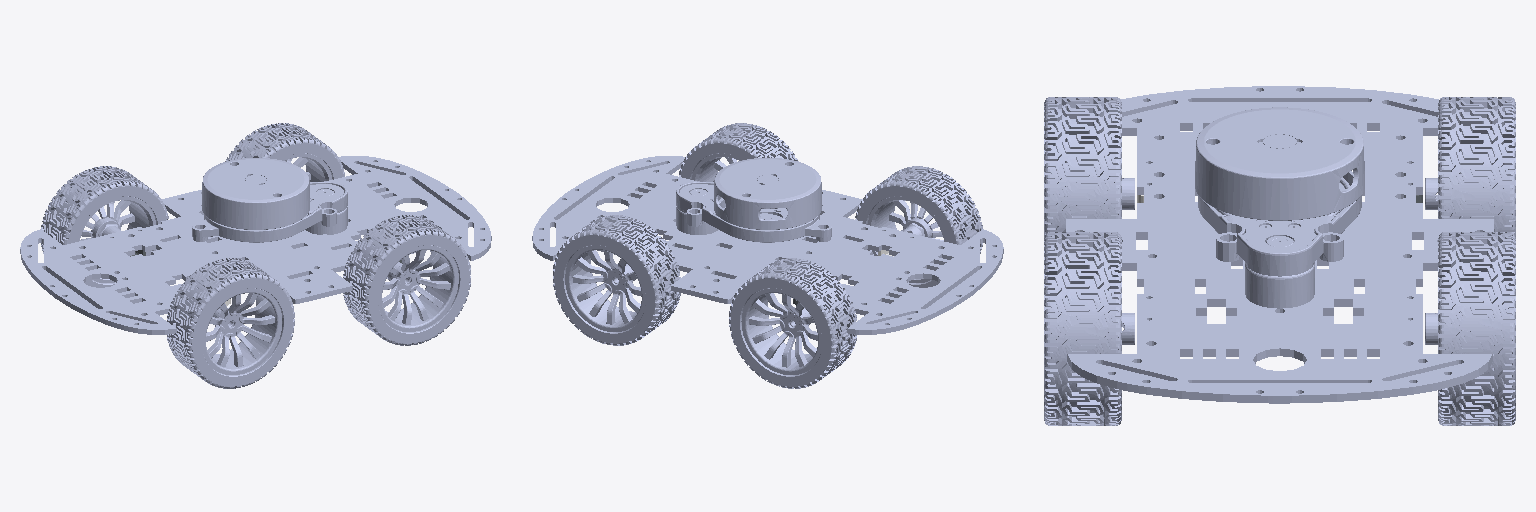
The robot description file, URDF, robot "rover":
<?xml version="1.0" encoding="utf-8"?>
<!-- This URDF was automatically created by SolidWorks to URDF Exporter! Originally created by [author] ([email redacted]) 
     Commit Version: 1.6.0-4-g7f85cfe  Build Version: 1.6.7995.38578
     For more information, please see http://wiki.ros.org/sw_urdf_exporter -->
<robot
  name="rover">
  <link
    name="base_link">
    <inertial>
      <origin
        xyz="2.04381831142401E-09 1.56408869429724E-17 -0.0015"
        rpy="0 0 0" />
      <mass
        value="0.0757356843292425" />
      <inertia
        ixx="9.30542487791855E-05"
        ixy="-1.72973378957802E-10"
        ixz="-1.66079077298931E-21"
        iyy="0.000382138338193282"
        iyz="3.43912726365504E-23"
        izz="0.000475078982714826" />
    </inertial>
    <visual>
      <origin
        xyz="0 0 0"
        rpy="0 0 0" />
      <geometry>
        <mesh
          filename="package://rover/meshes/base_link.STL" />
      </geometry>
      <material
        name="">
        <color
          rgba="0.792156862745098 0.819607843137255 0.933333333333333 1" />
      </material>
    </visual>
    <collision>
      <origin
        xyz="0 0 0"
        rpy="0 0 0" />
      <geometry>
        <mesh
          filename="package://rover/meshes/base_link.STL" />
      </geometry>
    </collision>
  </link>
  <link
    name="LD14P_Link">
    <inertial>
      <origin
        xyz="0.015195 -9.1663E-05 -0.019909"
        rpy="0 0 0" />
      <mass
        value="0.025443" />
      <inertia
        ixx="5.3011E-06"
        ixy="-1.5024E-08"
        ixz="1.2999E-09"
        iyy="8.6464E-06"
        iyz="-1.8484E-08"
        izz="1.3337E-05" />
    </inertial>
    <visual>
      <origin
        xyz="0 0 0"
        rpy="0 0 0" />
      <geometry>
        <mesh
          filename="package://rover/meshes/LD14P_Link.STL" />
      </geometry>
      <material
        name="">
        <color
          rgba="0.79216 0.81961 0.93333 1" />
      </material>
    </visual>
    <collision>
      <origin
        xyz="0 0 0"
        rpy="0 0 0" />
      <geometry>
        <mesh
          filename="package://rover/meshes/LD14P_Link.STL" />
      </geometry>
    </collision>
  </link>
  <joint
    name="LD14P"
    type="fixed">
    <origin
      xyz="-0.00012702 0 0.03845"
      rpy="0 0 0" />
    <parent
      link="base_link" />
    <child
      link="LD14P_Link" />
    <axis
      xyz="0 0 0" />
  </joint>
  <link
    name="Mount_Link_FR">
    <inertial>
      <origin
        xyz="-2.8937E-05 0.0057418 0.00032322"
        rpy="0 0 0" />
      <mass
        value="0.00088951" />
      <inertia
        ixx="2.4974E-08"
        ixy="-3.6241E-11"
        ixz="-9.203E-11"
        iyy="6.2294E-08"
        iyz="1.983E-09"
        izz="5.9248E-08" />
    </inertial>
    <visual>
      <origin
        xyz="0 0 0"
        rpy="0 0 0" />
      <geometry>
        <mesh
          filename="package://rover/meshes/Mount_Link_FR.STL" />
      </geometry>
      <material
        name="">
        <color
          rgba="0.44706 0.47451 0.50196 1" />
      </material>
    </visual>
    <collision>
      <origin
        xyz="0 0 0"
        rpy="0 0 0" />
      <geometry>
        <mesh
          filename="package://rover/meshes/Mount_Link_FR.STL" />
      </geometry>
    </collision>
  </link>
  <joint
    name="Mount_FR"
    type="fixed">
    <origin
      xyz="0.055873 -0.05 -0.0092866"
      rpy="0 0 0" />
    <parent
      link="base_link" />
    <child
      link="Mount_Link_FR" />
    <axis
      xyz="0 0 0" />
  </joint>
  <link
    name="Motor_Link_FR">
    <inertial>
      <origin
        xyz="-6.0305E-05 0.026341 0.00088289"
        rpy="0 0 0" />
      <mass
        value="0.0028388" />
      <inertia
        ixx="5.2064E-08"
        ixy="8.1692E-12"
        ixz="-2.1321E-10"
        iyy="5.1223E-08"
        iyz="9.4713E-12"
        izz="5.0388E-08" />
    </inertial>
    <visual>
      <origin
        xyz="0 0 0"
        rpy="0 0 0" />
      <geometry>
        <mesh
          filename="package://rover/meshes/Motor_Link_FR.STL" />
      </geometry>
      <material
        name="">
        <color
          rgba="0.79608 0.79608 0.79608 1" />
      </material>
    </visual>
    <collision>
      <origin
        xyz="0 0 0"
        rpy="0 0 0" />
      <geometry>
        <mesh
          filename="package://rover/meshes/Motor_Link_FR.STL" />
      </geometry>
    </collision>
  </link>
  <joint
    name="Motor_FR"
    type="fixed">
    <origin
      xyz="7.6341E-05 -0.0092 0.0012869"
      rpy="0 0 0" />
    <parent
      link="Mount_Link_FR" />
    <child
      link="Motor_Link_FR" />
    <axis
      xyz="0 0 0" />
  </joint>
  <link
    name="Wheel_Link_FR">
    <inertial>
      <origin
        xyz="5.7778E-11 -0.01821 -4.7703E-11"
        rpy="0 0 0" />
      <mass
        value="0.035175" />
      <inertia
        ixx="1.5237E-05"
        ixy="2.2092E-14"
        ixz="4.4745E-10"
        iyy="2.5786E-05"
        iyz="-3.1145E-14"
        izz="1.5237E-05" />
    </inertial>
    <visual>
      <origin
        xyz="0 0 0"
        rpy="0 0 0" />
      <geometry>
        <mesh
          filename="package://rover/meshes/Wheel_Link_FR.STL" />
      </geometry>
      <material
        name="">
        <color
          rgba="0.79216 0.81961 0.93333 1" />
      </material>
    </visual>
    <collision>
      <origin
        xyz="0 0 0"
        rpy="0 0 0" />
      <geometry>
        <mesh
          filename="package://rover/meshes/Wheel_Link_FR.STL" />
      </geometry>
    </collision>
  </link>
  <joint
    name="Wheel_FR"
    type="continuous">
    <origin
      xyz="-7.6341E-05 0.0084 0"
      rpy="0 0 0" />
    <parent
      link="Motor_Link_FR" />
    <child
      link="Wheel_Link_FR" />
    <axis
      xyz="0 1 0" />
  </joint>
  <link
    name="Mount_Link_FL">
    <inertial>
      <origin
        xyz="2.89374526260128E-05 -0.00574180489474202 0.000323223503266032"
        rpy="0 0 0" />
      <mass
        value="0.000889511101495515" />
      <inertia
        ixx="2.497444539411E-08"
        ixy="-3.6240651239437E-11"
        ixz="9.2029843628899E-11"
        iyy="6.22940092253975E-08"
        iyz="-1.98296057293581E-09"
        izz="5.92484943284019E-08" />
    </inertial>
    <visual>
      <origin
        xyz="0 0 0"
        rpy="0 0 0" />
      <geometry>
        <mesh
          filename="package://rover/meshes/Mount_Link_FL.STL" />
      </geometry>
      <material
        name="">
        <color
          rgba="0.447058823529412 0.474509803921569 0.501960784313725 1" />
      </material>
    </visual>
    <collision>
      <origin
        xyz="0 0 0"
        rpy="0 0 0" />
      <geometry>
        <mesh
          filename="package://rover/meshes/Mount_Link_FL.STL" />
      </geometry>
    </collision>
  </link>
  <joint
    name="Mount_FL"
    type="fixed">
    <origin
      xyz="0.055873 0.05 -0.0092866"
      rpy="0 0 0" />
    <parent
      link="base_link" />
    <child
      link="Mount_Link_FL" />
    <axis
      xyz="0 0 0" />
  </joint>
  <link
    name="Motor_Link_FL">
    <inertial>
      <origin
        xyz="6.03046968803145E-05 -0.0263412887088174 0.000882893673382839"
        rpy="0 0 0" />
      <mass
        value="0.00283879570267248" />
      <inertia
        ixx="5.20644968727663E-08"
        ixy="8.16932903691748E-12"
        ixz="2.13211914887738E-10"
        iyy="5.12226271656975E-08"
        iyz="-9.4713293078595E-12"
        izz="5.03883033851809E-08" />
    </inertial>
    <visual>
      <origin
        xyz="0 0 0"
        rpy="0 0 0" />
      <geometry>
        <mesh
          filename="package://rover/meshes/Motor_Link_FL.STL" />
      </geometry>
      <material
        name="">
        <color
          rgba="0.796078431372549 0.796078431372549 0.796078431372549 1" />
      </material>
    </visual>
    <collision>
      <origin
        xyz="0 0 0"
        rpy="0 0 0" />
      <geometry>
        <mesh
          filename="package://rover/meshes/Motor_Link_FL.STL" />
      </geometry>
    </collision>
  </link>
  <joint
    name="Motor_FL"
    type="fixed">
    <origin
      xyz="-7.63405011604268E-05 0.00919999999999997 0.00128688689012445"
      rpy="0 0 0" />
    <parent
      link="Mount_Link_FL" />
    <child
      link="Motor_Link_FL" />
    <axis
      xyz="0 0 0" />
  </joint>
  <link
    name="Wheel_Link_FL">
    <inertial>
      <origin
        xyz="-7.45820558090138E-11 0.0182100813888 7.17062607208385E-12"
        rpy="0 0 0" />
      <mass
        value="0.035174698582227" />
      <inertia
        ixx="1.52366268256632E-05"
        ixy="3.76506163752978E-14"
        ixz="-2.1550742782768E-10"
        iyy="2.57857822002641E-05"
        iyz="6.3766971496481E-15"
        izz="1.52375222771183E-05" />
    </inertial>
    <visual>
      <origin
        xyz="0 0 0"
        rpy="0 0 0" />
      <geometry>
        <mesh
          filename="package://rover/meshes/Wheel_Link_FL.STL" />
      </geometry>
      <material
        name="">
        <color
          rgba="0.792156862745098 0.819607843137255 0.933333333333333 1" />
      </material>
    </visual>
    <collision>
      <origin
        xyz="0 0 0"
        rpy="0 0 0" />
      <geometry>
        <mesh
          filename="package://rover/meshes/Wheel_Link_FL.STL" />
      </geometry>
    </collision>
  </link>
  <joint
    name="Wheel_FL"
    type="continuous">
    <origin
      xyz="7.63405011604476E-05 -0.00840000000000002 0"
      rpy="0 0 0" />
    <parent
      link="Motor_Link_FL" />
    <child
      link="Wheel_Link_FL" />
    <axis
      xyz="0 -1 0" />
  </joint>
  <link
    name="Mount_Link_BL">
    <inertial>
      <origin
        xyz="2.89374526260197E-05 -0.00574180489474202 0.000323223503266031"
        rpy="0 0 0" />
      <mass
        value="0.000889511101495515" />
      <inertia
        ixx="2.497444539411E-08"
        ixy="-3.62406512394373E-11"
        ixz="9.20298436289031E-11"
        iyy="6.22940092253975E-08"
        iyz="-1.98296057293581E-09"
        izz="5.92484943284018E-08" />
    </inertial>
    <visual>
      <origin
        xyz="0 0 0"
        rpy="0 0 0" />
      <geometry>
        <mesh
          filename="package://rover/meshes/Mount_Link_BL.STL" />
      </geometry>
      <material
        name="">
        <color
          rgba="0.447058823529412 0.474509803921569 0.501960784313725 1" />
      </material>
    </visual>
    <collision>
      <origin
        xyz="0 0 0"
        rpy="0 0 0" />
      <geometry>
        <mesh
          filename="package://rover/meshes/Mount_Link_BL.STL" />
      </geometry>
    </collision>
  </link>
  <joint
    name="Mount_BL"
    type="fixed">
    <origin
      xyz="-0.056127 0.05 -0.0092866"
      rpy="0 0 0" />
    <parent
      link="base_link" />
    <child
      link="Mount_Link_BL" />
    <axis
      xyz="0 0 0" />
  </joint>
  <link
    name="Motor_Link_BL">
    <inertial>
      <origin
        xyz="-6.030459023839E-05 -0.0263412887982114 -0.000882893768063883"
        rpy="0 0 0" />
      <mass
        value="0.00283879567406719" />
      <inertia
        ixx="5.20644961834455E-08"
        ixy="-8.16930221775181E-12"
        ixz="2.13211883274157E-10"
        iyy="5.12226271617704E-08"
        iyz="9.4712344391227E-12"
        izz="5.03883026605782E-08" />
    </inertial>
    <visual>
      <origin
        xyz="0 0 0"
        rpy="0 0 0" />
      <geometry>
        <mesh
          filename="package://rover/meshes/Motor_Link_BL.STL" />
      </geometry>
      <material
        name="">
        <color
          rgba="0.796078431372549 0.796078431372549 0.796078431372549 1" />
      </material>
    </visual>
    <collision>
      <origin
        xyz="0 0 0"
        rpy="0 0 0" />
      <geometry>
        <mesh
          filename="package://rover/meshes/Motor_Link_BL.STL" />
      </geometry>
    </collision>
  </link>
  <joint
    name="Motor_BL"
    type="fixed">
    <origin
      xyz="7.63405011606419E-05 0.00919999999999999 0.0012863796207111"
      rpy="0 0 0" />
    <parent
      link="Mount_Link_BL" />
    <child
      link="Motor_Link_BL" />
    <axis
      xyz="0 0 0" />
  </joint>
  <link
    name="Wheel_Link_BL">
    <inertial>
      <origin
        xyz="4.3705178365272E-12 0.0182100813888 7.47986212898399E-11"
        rpy="0 0 0" />
      <mass
        value="0.0351746985822267" />
      <inertia
        ixx="1.52375048767784E-05"
        ixy="7.78410523677623E-15"
        ixz="2.48438778432416E-10"
        iyy="2.57857822002643E-05"
        iyz="-3.73823276527771E-14"
        izz="1.52366442259736E-05" />
    </inertial>
    <visual>
      <origin
        xyz="0 0 0"
        rpy="0 0 0" />
      <geometry>
        <mesh
          filename="package://rover/meshes/Wheel_Link_BL.STL" />
      </geometry>
      <material
        name="">
        <color
          rgba="0.792156862745098 0.819607843137255 0.933333333333333 1" />
      </material>
    </visual>
    <collision>
      <origin
        xyz="0 0 0"
        rpy="0 0 0" />
      <geometry>
        <mesh
          filename="package://rover/meshes/Wheel_Link_BL.STL" />
      </geometry>
    </collision>
  </link>
  <joint
    name="Wheel_BL"
    type="continuous">
    <origin
      xyz="-7.63405011606141E-05 -0.00840000000000001 0"
      rpy="0 0 0" />
    <parent
      link="Motor_Link_BL" />
    <child
      link="Wheel_Link_BL" />
    <axis
      xyz="0 -1 0" />
  </joint>
  <link
    name="Mount_Link_BR">
    <inertial>
      <origin
        xyz="0 0 0"
        rpy="0 0 0" />
      <mass
        value="0" />
      <inertia
        ixx="0"
        ixy="0"
        ixz="0"
        iyy="0"
        iyz="0"
        izz="0" />
    </inertial>
    <visual>
      <origin
        xyz="0 0 0"
        rpy="0 0 0" />
      <geometry>
        <mesh
          filename="package://rover/meshes/Mount_Link_BR.STL" />
      </geometry>
      <material
        name="">
        <color
          rgba="1 1 1 1" />
      </material>
    </visual>
    <collision>
      <origin
        xyz="0 0 0"
        rpy="0 0 0" />
      <geometry>
        <mesh
          filename="package://rover/meshes/Mount_Link_BR.STL" />
      </geometry>
    </collision>
  </link>
  <joint
    name="Mount_BR"
    type="fixed">
    <origin
      xyz="-0.0561270249631181 -0.0499999999999994 -0.00928663325541777"
      rpy="0 0 0" />
    <parent
      link="base_link" />
    <child
      link="Mount_Link_BR" />
    <axis
      xyz="0 0 0" />
  </joint>
  <link
    name="Motor_Link_BR">
    <inertial>
      <origin
        xyz="6.03046153492687E-05 0.0263412889891294 -0.00088289376174546"
        rpy="0 0 0" />
      <mass
        value="0.0028387955894548" />
      <inertia
        ixx="5.20644945289959E-08"
        ixy="-8.16931021094843E-12"
        ixz="-2.13211916263588E-10"
        iyy="5.122262714054E-08"
        iyz="-9.47133094088897E-12"
        izz="5.03883010411983E-08" />
    </inertial>
    <visual>
      <origin
        xyz="0 0 0"
        rpy="0 0 0" />
      <geometry>
        <mesh
          filename="package://rover/meshes/Motor_Link_BR.STL" />
      </geometry>
      <material
        name="">
        <color
          rgba="0.796078431372549 0.796078431372549 0.796078431372549 1" />
      </material>
    </visual>
    <collision>
      <origin
        xyz="0 0 0"
        rpy="0 0 0" />
      <geometry>
        <mesh
          filename="package://rover/meshes/Motor_Link_BR.STL" />
      </geometry>
    </collision>
  </link>
  <joint
    name="Motor_BR"
    type="fixed">
    <origin
      xyz="-7.63405011606072E-05 -0.0092 0.0012863796207111"
      rpy="0 0 0" />
    <parent
      link="Mount_Link_BR" />
    <child
      link="Motor_Link_BR" />
    <axis
      xyz="0 0 0" />
  </joint>
  <link
    name="Wheel_Link_BR">
    <inertial>
      <origin
        xyz="6.12851297487893E-11 -0.0182100813888 4.31050247579057E-11"
        rpy="0 0 0" />
      <mass
        value="0.0351746985822271" />
      <inertia
        ixx="1.52366604616097E-05"
        ixy="3.58796086606825E-14"
        ixz="-2.74647742451226E-10"
        iyy="2.57857822002649E-05"
        iyz="1.30708201068383E-14"
        izz="1.5237488641291E-05" />
    </inertial>
    <visual>
      <origin
        xyz="0 0 0"
        rpy="0 0 0" />
      <geometry>
        <mesh
          filename="package://rover/meshes/Wheel_Link_BR.STL" />
      </geometry>
      <material
        name="">
        <color
          rgba="0.792156862745098 0.819607843137255 0.933333333333333 1" />
      </material>
    </visual>
    <collision>
      <origin
        xyz="0 0 0"
        rpy="0 0 0" />
      <geometry>
        <mesh
          filename="package://rover/meshes/Wheel_Link_BR.STL" />
      </geometry>
    </collision>
  </link>
  <joint
    name="Wheel_BR"
    type="continuous">
    <origin
      xyz="7.63405011606072E-05 0.0084 0"
      rpy="0 0 0" />
    <parent
      link="Motor_Link_BR" />
    <child
      link="Wheel_Link_BR" />
    <axis
      xyz="0 1 0" />
  </joint>
</robot>

--- Render facts (derived) ---
3 views of the same robot in one strip: view 1: azimuth 30°, elevation 25°; view 2: azimuth 150°, elevation 25°; view 3: azimuth 270°, elevation 25° (orthographic).
Model rover with 14 links and 13 joints (4 continuous, 9 fixed), rooted at base_link, posed every joint at zero.
Links seen in each view (by area): view 1: base_link, Wheel_Link_BR, Wheel_Link_FR, LD14P_Link, Wheel_Link_BL, Wheel_Link_FL; view 2: base_link, Wheel_Link_BL, Wheel_Link_FL, LD14P_Link, Wheel_Link_BR, Wheel_Link_FR; view 3: base_link, LD14P_Link, Wheel_Link_FL, Wheel_Link_FR, Wheel_Link_BR, Wheel_Link_BL.
Link boxes in pixels (bbox=[...]): base_link: bbox=[20, 156, 491, 334]; Wheel_Link_BR: bbox=[167, 258, 294, 388]; Wheel_Link_FR: bbox=[343, 215, 470, 345]; LD14P_Link: bbox=[192, 158, 347, 242]; Wheel_Link_BL: bbox=[41, 166, 168, 287]; Wheel_Link_FL: bbox=[225, 123, 344, 181]; base_link: bbox=[532, 156, 1003, 334]; Wheel_Link_BL: bbox=[729, 258, 856, 388]; Wheel_Link_FL: bbox=[553, 215, 680, 345]; LD14P_Link: bbox=[676, 158, 831, 242]; Wheel_Link_BR: bbox=[855, 166, 982, 287]; Wheel_Link_FR: bbox=[679, 123, 798, 181]; base_link: bbox=[1066, 86, 1493, 403]; LD14P_Link: bbox=[1195, 107, 1364, 308]; Wheel_Link_FL: bbox=[1425, 232, 1515, 425]; Wheel_Link_FR: bbox=[1044, 232, 1134, 425]; Wheel_Link_BR: bbox=[1044, 97, 1134, 237]; Wheel_Link_BL: bbox=[1425, 97, 1515, 236].
Bounding box of the posed robot: 0.257 × 0.1651 × 0.0805 m (x, y, z).
Meshes: 14 distinct files referenced, 9 mesh visuals loaded (9 binary STL); not drawn: 5 (reference not matched to a file when rendering).